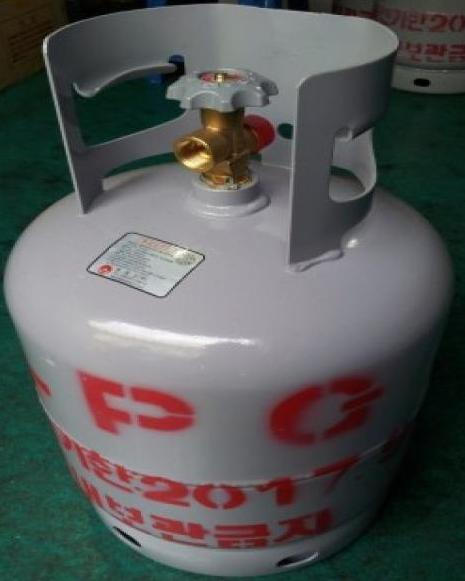cylinder: (1, 1, 465, 581)
